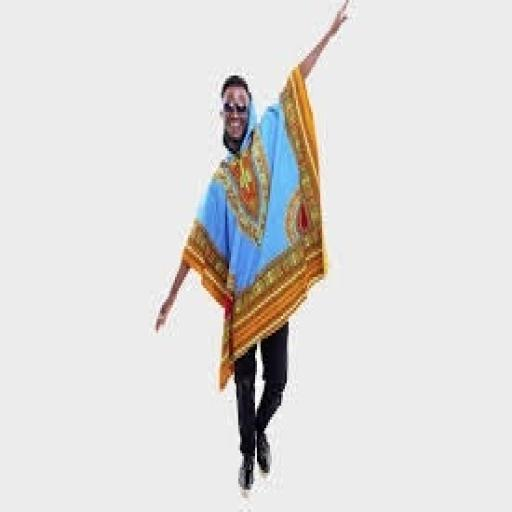dancing: (151, 0, 354, 501)
